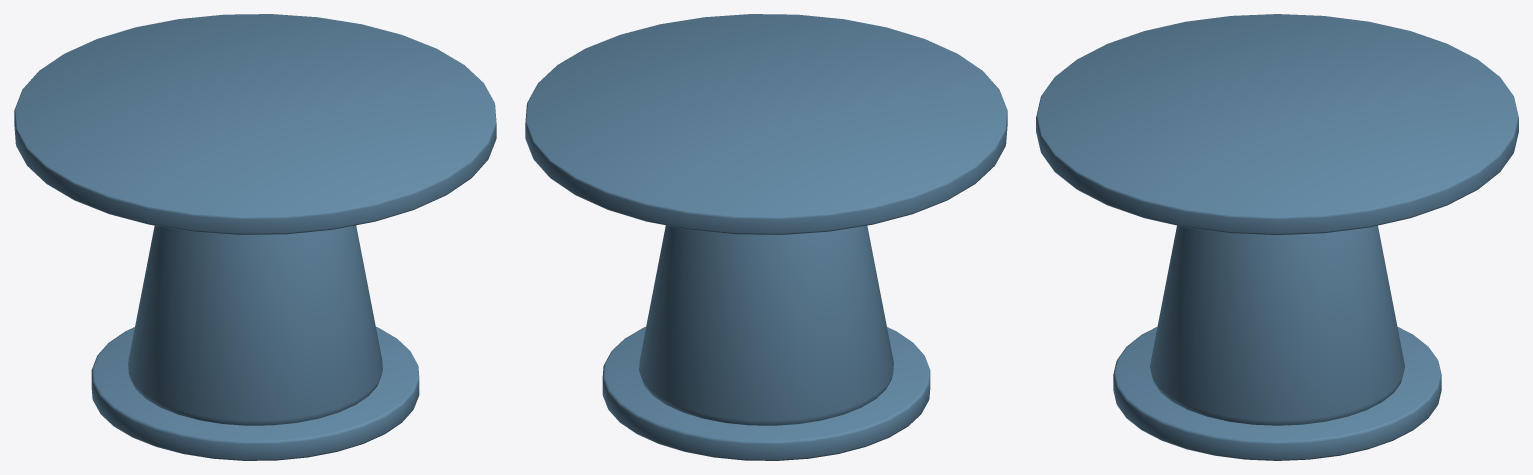
File: pedestal-dining-table.glb
The picture shows the model from 3 angles, left to right: view 1: azimuth 30°, elevation 25°; view 2: azimuth 150°, elevation 25°; view 3: azimuth 270°, elevation 25°; orthographic projection.
Parts seen in each view (by area): view 1: catalog_surface_RealismUV; view 2: catalog_surface_RealismUV; view 3: catalog_surface_RealismUV.
Boxes of the visible parts, box(x1,y1,x2,y2) form: catalog_surface_RealismUV: box(14, 14, 496, 460); catalog_surface_RealismUV: box(525, 14, 1007, 460); catalog_surface_RealismUV: box(1036, 14, 1518, 460).
Size of the model in its own units: 1.2 by 0.76 by 1.2.
